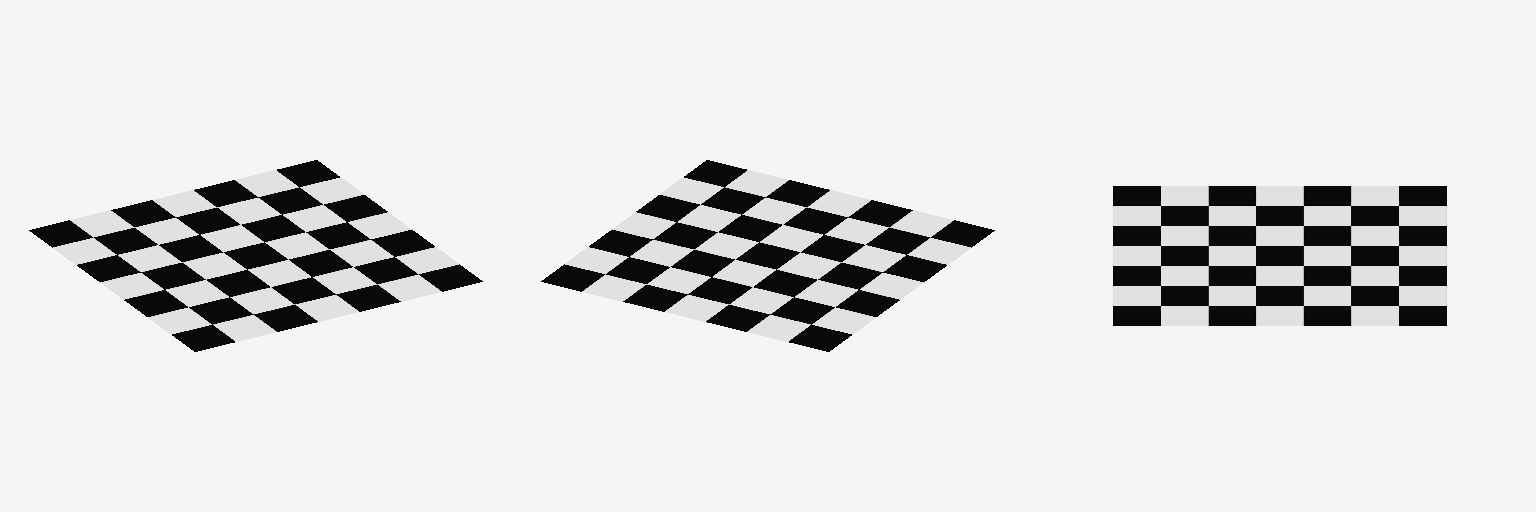
3 views of the same model, side by side, from view 1: azimuth 30°, elevation 25°; view 2: azimuth 150°, elevation 25°; view 3: azimuth 270°, elevation 25° (orthographic).
Visible parts, largest first — view 1: pPlane1; view 2: pPlane1; view 3: pPlane1.
Boxes of the visible parts, x1,y1,x2,y2 form: pPlane1: [29, 160, 482, 351]; pPlane1: [541, 160, 994, 351]; pPlane1: [1113, 186, 1446, 325].
Size of the model in its own units: 20 by 0 by 20.
Materials: 1 (1 with a texture image).